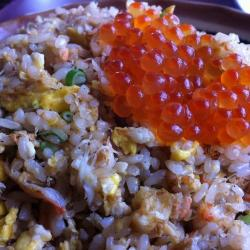rice: (7, 45, 101, 236)
